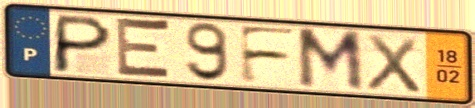9: (181, 20, 231, 84)
E: (113, 14, 175, 84)
F: (235, 24, 301, 86)
M: (294, 26, 367, 94)
P: (49, 12, 116, 76)
X: (364, 32, 424, 96)
